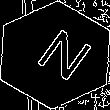N_SW: (21, 23, 89, 87)
